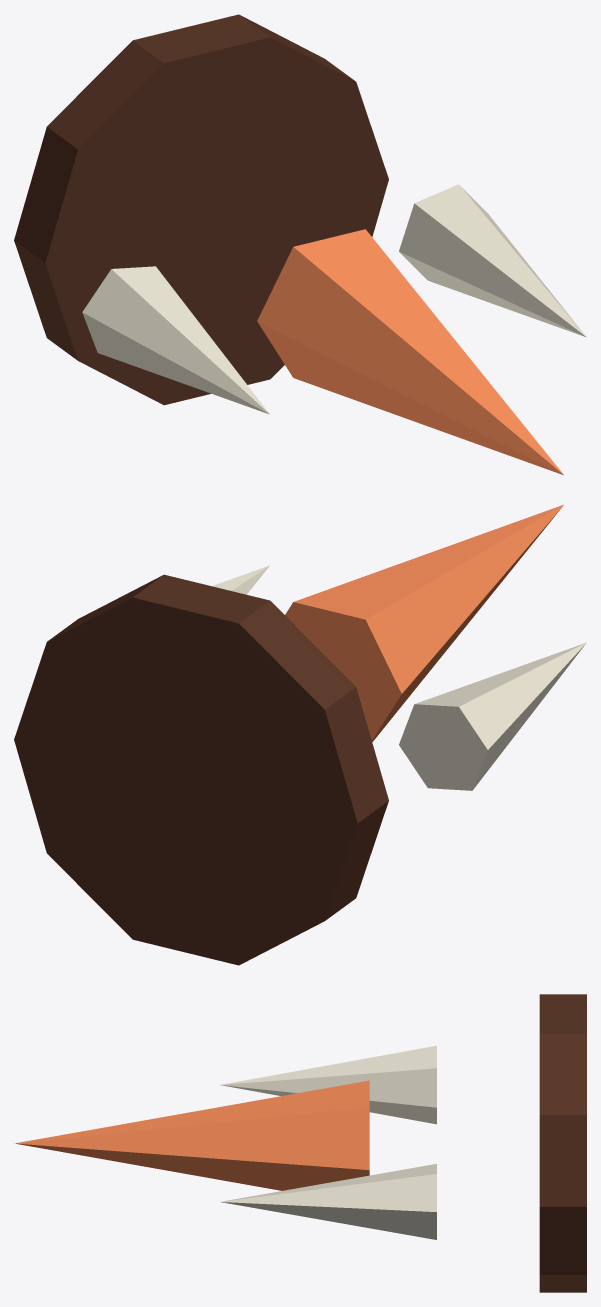
The model's file is 02_low_poly_silhouette_overlay_2.glb.
The picture shows the model from 3 angles, top to bottom: view 1: azimuth 30°, elevation 25°; view 2: azimuth 150°, elevation 25°; view 3: azimuth 270°, elevation 25°; orthographic projection. The views are drawn at different scales.
Parts seen in each view (by area): view 1: socket_base, silhouette_spike_main, silhouette_spike_l, silhouette_spike_r; view 2: socket_base, silhouette_spike_main, silhouette_spike_l, silhouette_spike_r; view 3: silhouette_spike_main, socket_base, silhouette_spike_r, silhouette_spike_l.
Boxes of the visible parts, x1,y1,x2,y2 form: socket_base: (14, 14, 388, 405); silhouette_spike_main: (257, 229, 563, 475); silhouette_spike_l: (82, 266, 269, 414); silhouette_spike_r: (399, 184, 586, 337); socket_base: (14, 574, 388, 965); silhouette_spike_main: (285, 504, 563, 741); silhouette_spike_l: (399, 642, 586, 790); silhouette_spike_r: (212, 565, 269, 594); silhouette_spike_main: (14, 1080, 369, 1190); socket_base: (539, 994, 586, 1292); silhouette_spike_r: (220, 1164, 436, 1239); silhouette_spike_l: (220, 1045, 436, 1124).
Size of the model in its own units: 0.897 by 0.7228 by 1.45.
